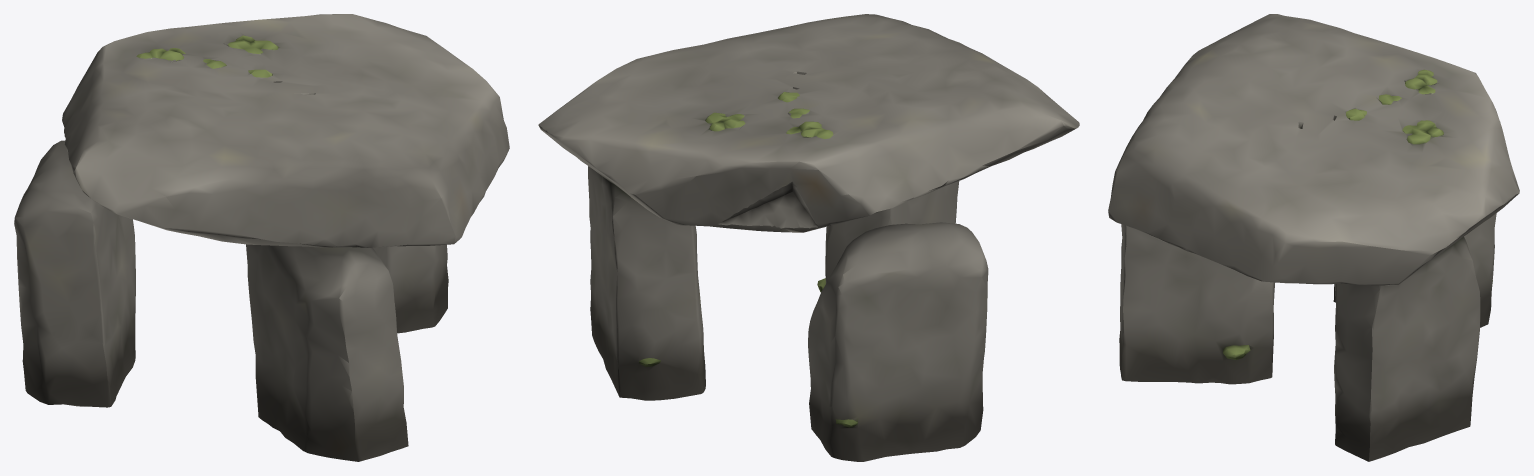
The model's file is lm_dolmen.glb.
3 renders of one model, left to right at view 1: azimuth 30°, elevation 25°; view 2: azimuth 150°, elevation 25°; view 3: azimuth 270°, elevation 25°, orthographic. The views are drawn at different scales.
Visible parts, largest first — view 1: lm_dolmen_LOD0; view 2: lm_dolmen_LOD0; view 3: lm_dolmen_LOD0.
Boxes of the visible parts, bbox=[...] form: lm_dolmen_LOD0: bbox=[14, 14, 509, 461]; lm_dolmen_LOD0: bbox=[538, 14, 1079, 461]; lm_dolmen_LOD0: bbox=[1108, 14, 1519, 461].
Size of what is drawn, in the model's own units: 4.94 by 3.22 by 4.31.
